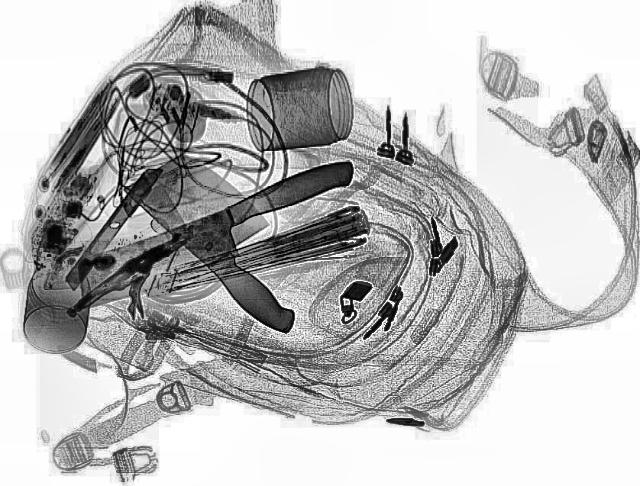Knife: (49, 156, 384, 312), (113, 148, 353, 336)
